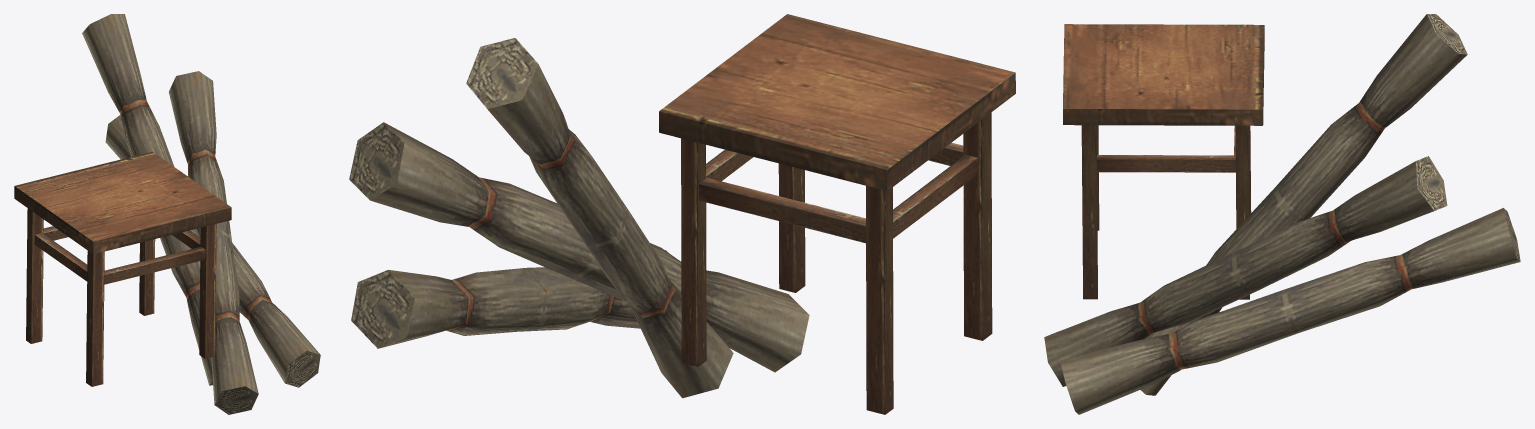
File: 1004_Item_dengzi_1.FBX
3 views of the same model, side by side, from view 1: azimuth 30°, elevation 25°; view 2: azimuth 150°, elevation 25°; view 3: azimuth 270°, elevation 25° (orthographic). The views are drawn at different scales.
Visible parts, largest first — view 1: 1004_Item_dengzi_1; view 2: 1004_Item_dengzi_1; view 3: 1004_Item_dengzi_1.
Part boxes in pixels (x1,y1,x2,y2): 1004_Item_dengzi_1: (14,14,320,414); 1004_Item_dengzi_1: (349,14,1015,414); 1004_Item_dengzi_1: (1044,14,1520,414).
Bounding box in the file's own units: 41.96 × 52.26 × 45.98.
